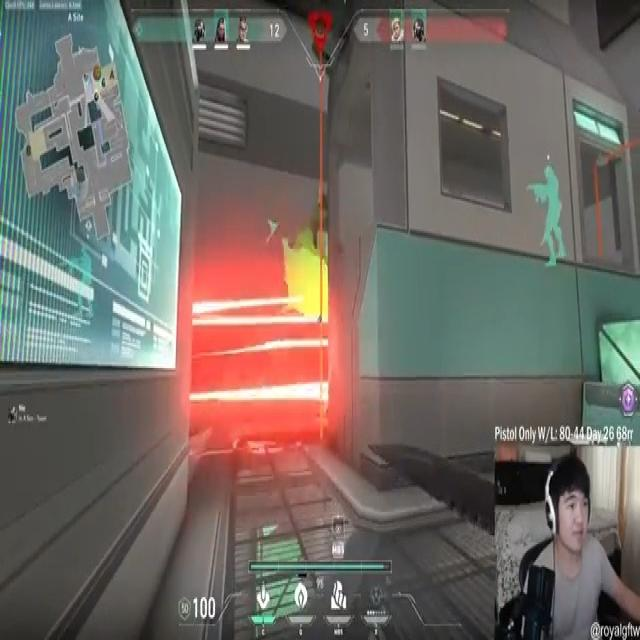ally behind wall: (528, 161, 567, 275)
